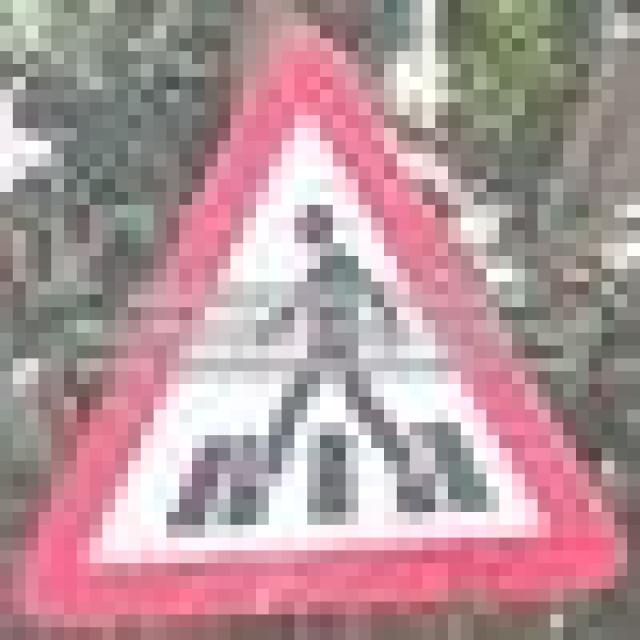pass_either_side: (0, 0, 614, 589)
